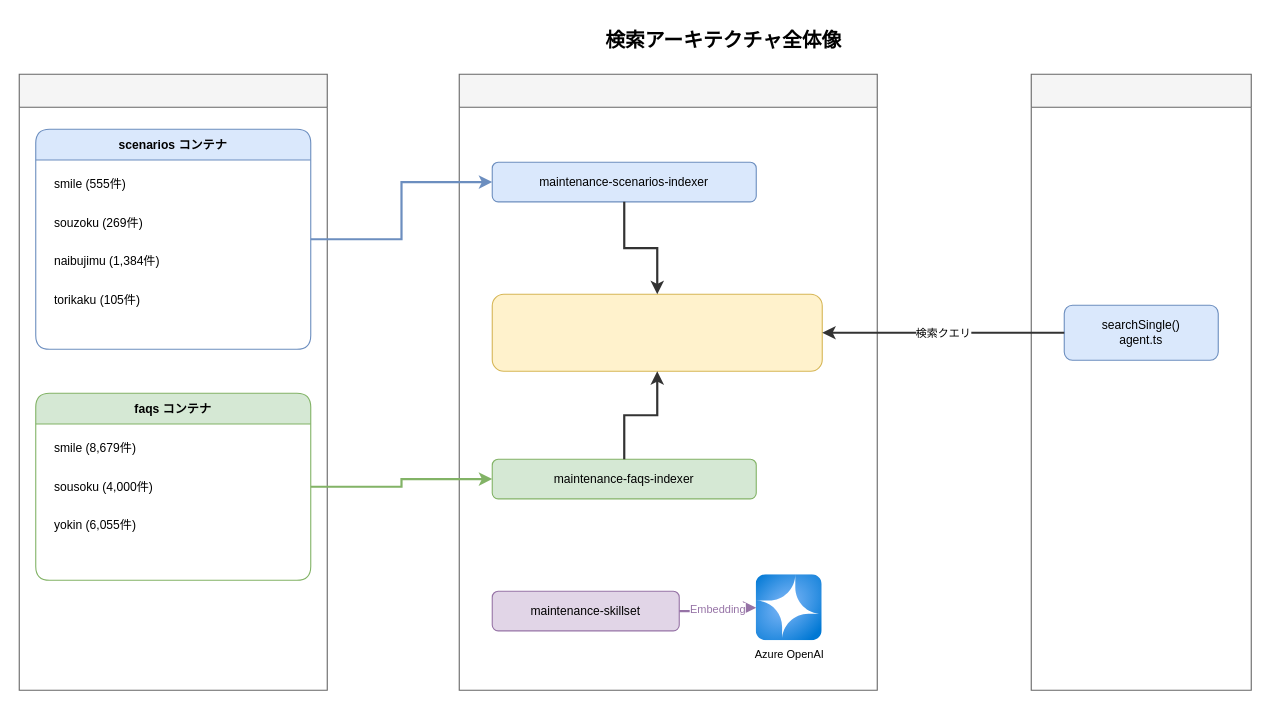
This 1271x710 diagram has some shape labels left out. Each missing label, with the box of its shape:
AI Search: (458, 73, 877, 690)
Bot: (1030, 73, 1251, 690)
Cosmos DB: (18, 73, 327, 690)
maintenance-search-index （15フィールド、21,047件）: (491, 293, 822, 371)
